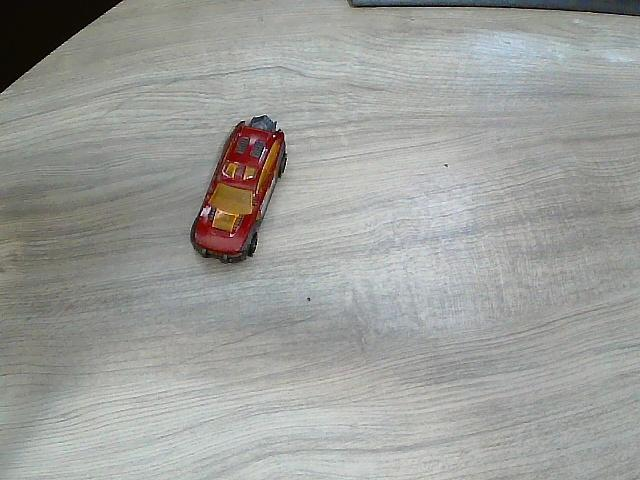Carro: (191, 116, 285, 264)
